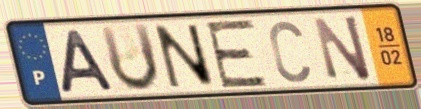A: (57, 27, 119, 95)
C: (266, 18, 313, 85)
E: (202, 17, 270, 90)
N: (151, 22, 219, 91), (310, 12, 375, 83)
U: (97, 21, 163, 95)
